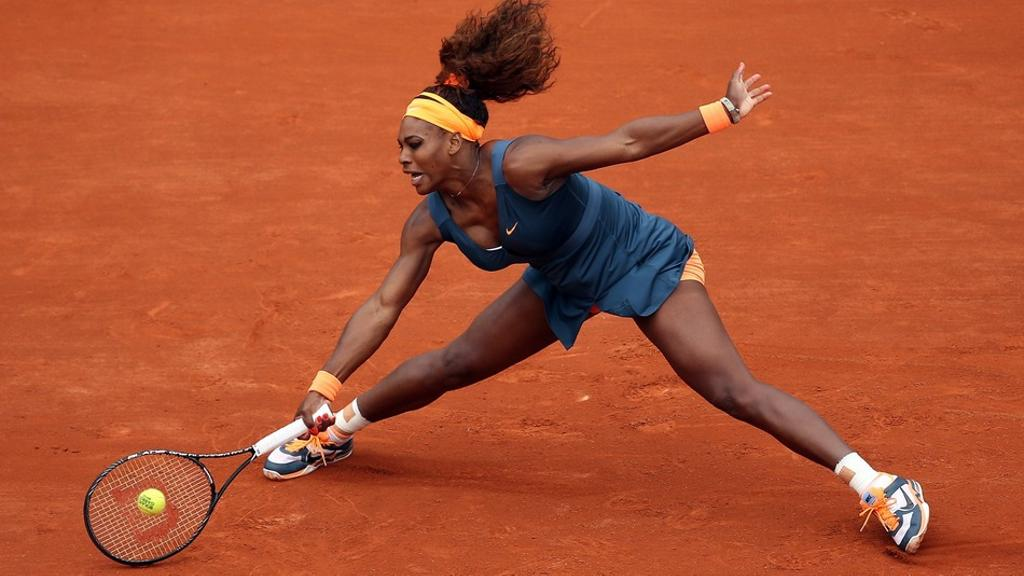face: (397, 112, 446, 194)
